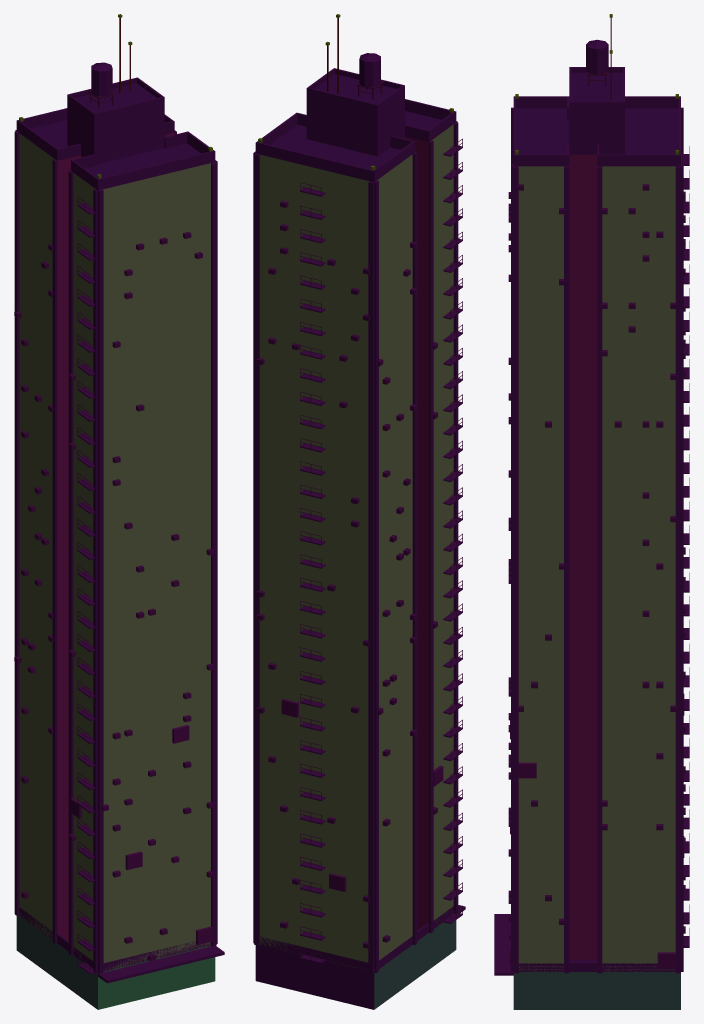
The model's file is restower_d.glb.
3 renders of one model, left to right at view 1: azimuth 30°, elevation 25°; view 2: azimuth 150°, elevation 25°; view 3: azimuth 270°, elevation 25°, orthographic. The views are drawn at different scales.
Visible parts, largest first — view 1: restower_d; view 2: restower_d; view 3: restower_d.
Boxes of the visible parts, <box> form: restower_d: <box>14,14,224,1009</box>; restower_d: <box>253,14,465,1009</box>; restower_d: <box>494,14,689,1009</box>.
Size of the model in its own units: 17.55 by 123 by 22.4.
